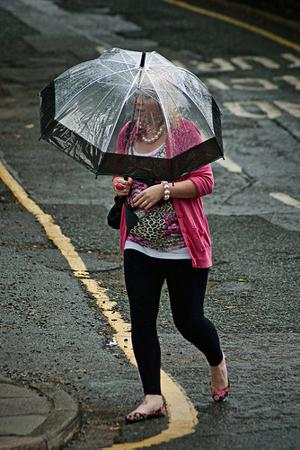person: (113, 61, 230, 423)
